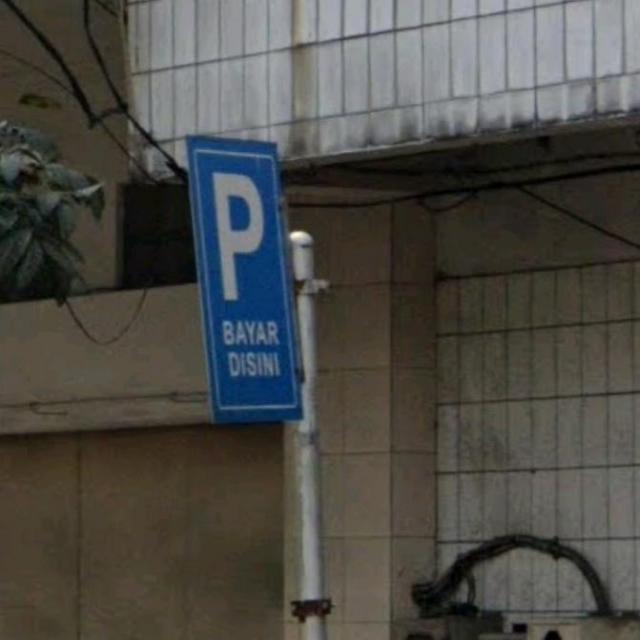traffic sign: (181, 133, 305, 419)
